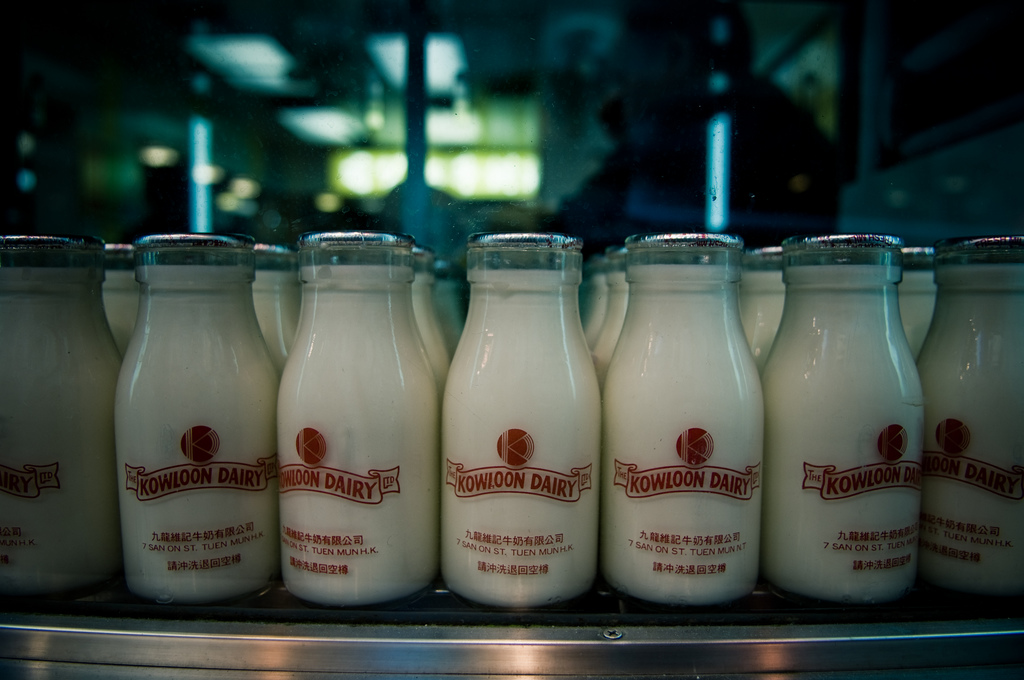glass of milk: (281, 224, 991, 614)
